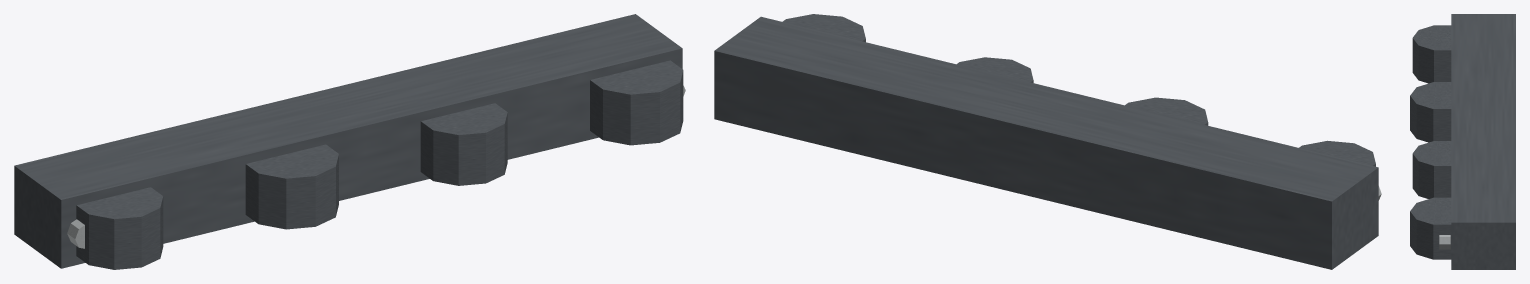
File: electrical_panel_conduit_clamp.glb
The picture shows the model from 3 angles, left to right: view 1: azimuth 30°, elevation 25°; view 2: azimuth 150°, elevation 25°; view 3: azimuth 270°, elevation 25°; orthographic projection. The views are drawn at different scales.
Parts seen in each view (by area): view 1: electrical_panel_conduit_clamp; view 2: electrical_panel_conduit_clamp; view 3: electrical_panel_conduit_clamp.
Part boxes in pixels (x1,y1,x2,y2): electrical_panel_conduit_clamp: [14, 14, 685, 269]; electrical_panel_conduit_clamp: [714, 14, 1381, 269]; electrical_panel_conduit_clamp: [1410, 14, 1515, 269].
Size of the model in its own units: 0.397 by 0.042 by 0.085.
1 material, 1 textured.
